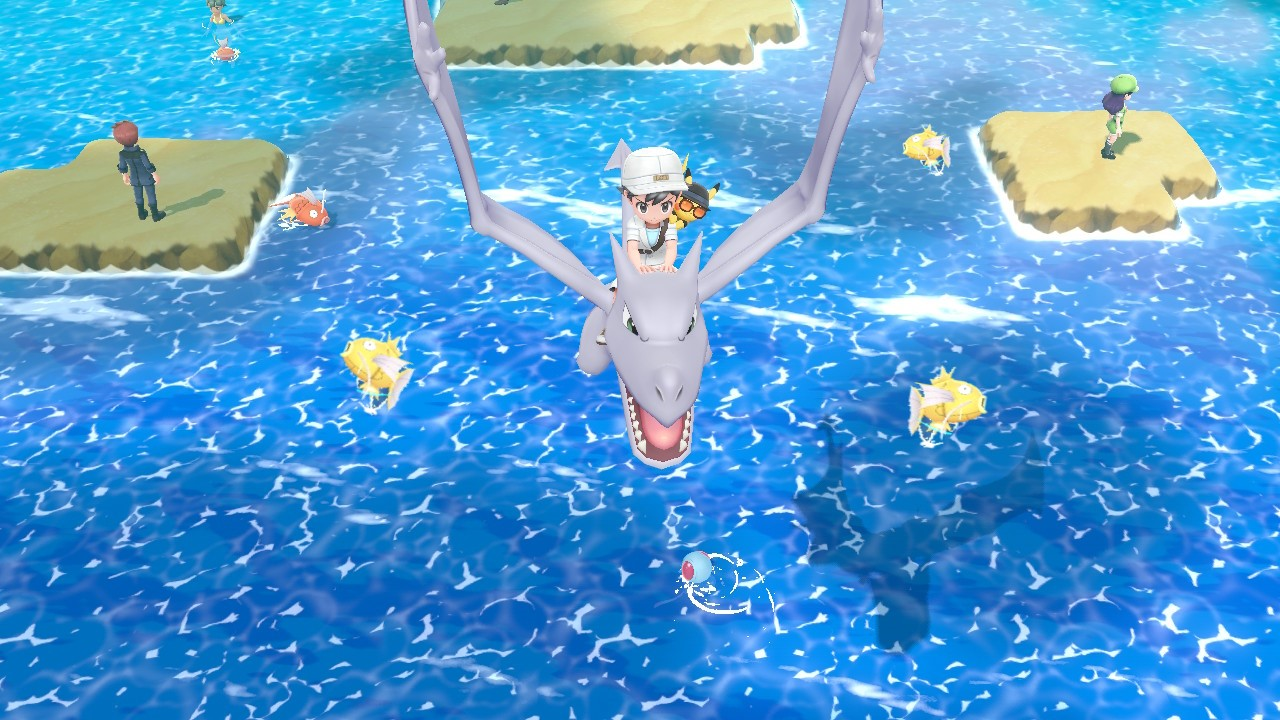Golden: (898, 365, 990, 451), (340, 332, 415, 412), (897, 124, 954, 175)
Red: (273, 189, 333, 231), (206, 37, 238, 65)
